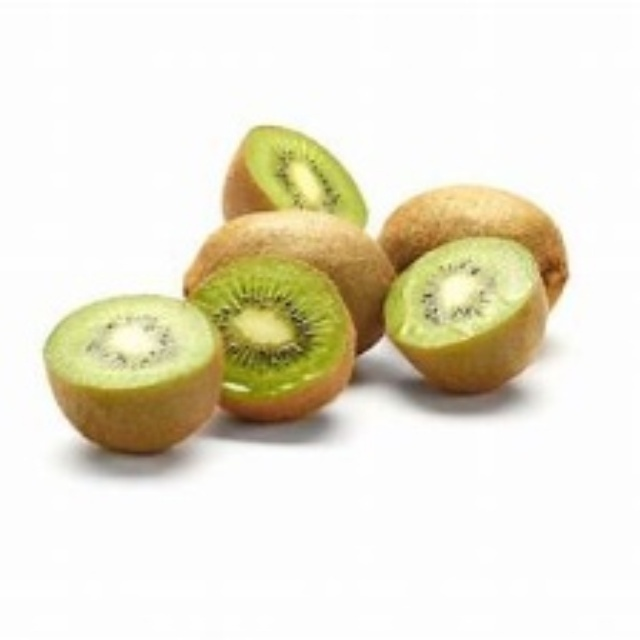kiwi: (60, 270, 349, 449), (194, 130, 393, 350), (382, 183, 574, 389)
